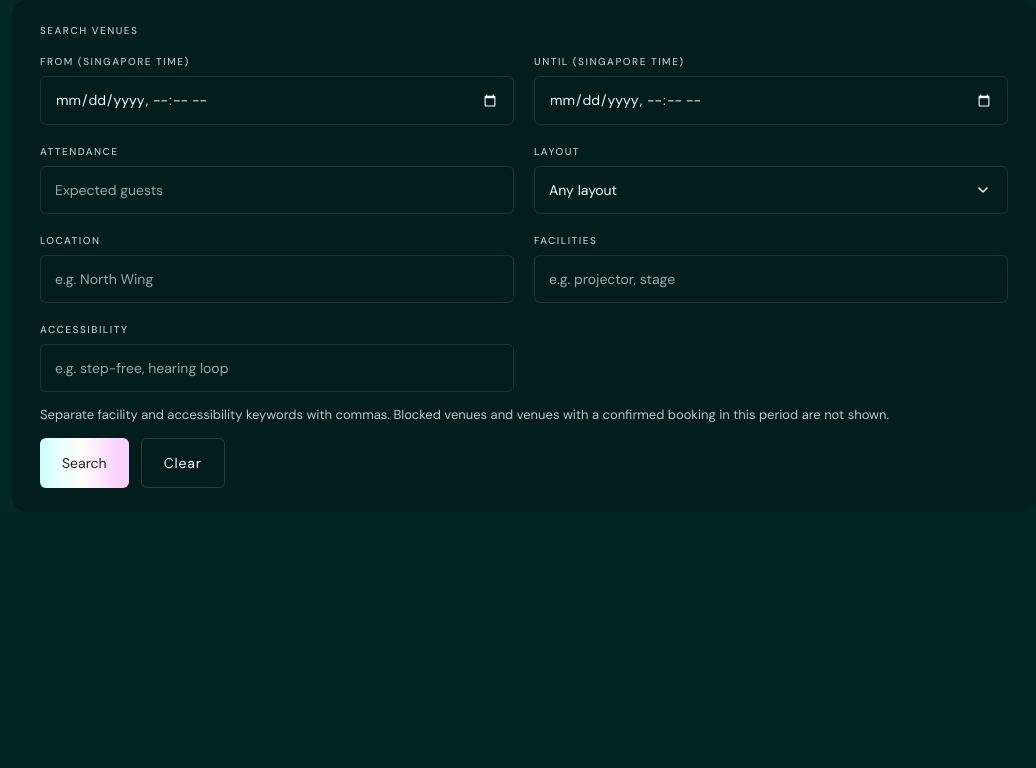
[FAILURE] [SG2-46:AC2] server refusals and network failures are reported, and Clear resets the search
Type "2030-06-15T09:00" into the field labelled "From (Singapore time)" at (277, 100), box x1=40 y1=76 x2=514 y2=125
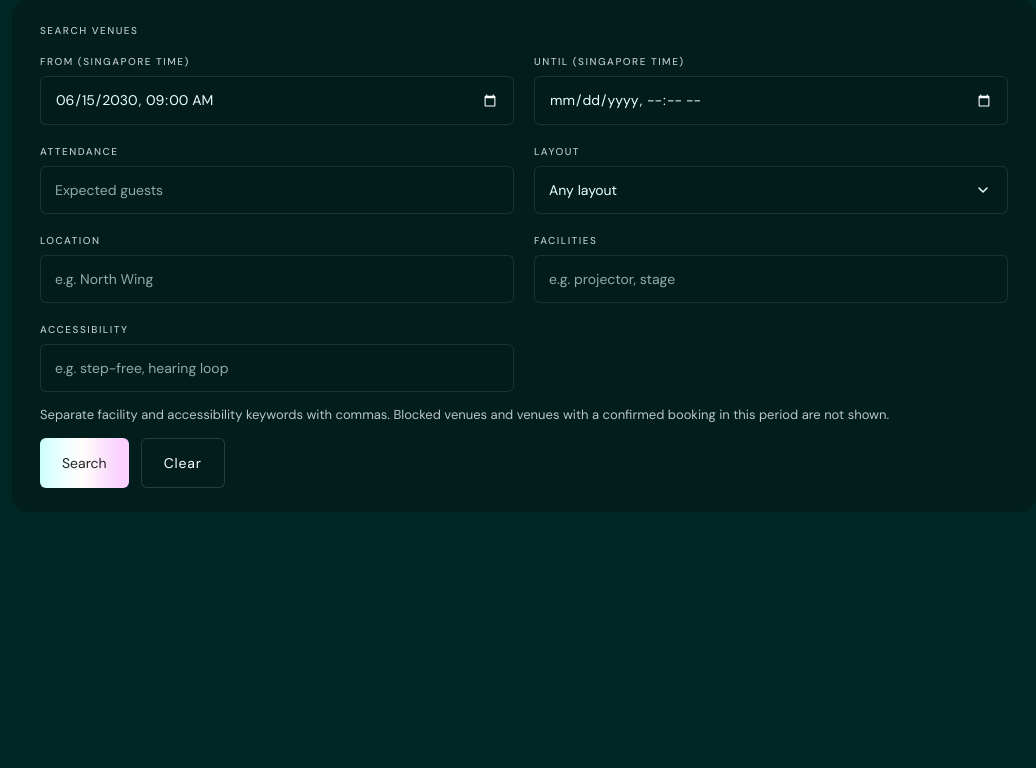
Type "2030-06-15T17:00" into the field labelled "Until (Singapore time)" at (771, 100), box x1=534 y1=76 x2=1008 y2=125
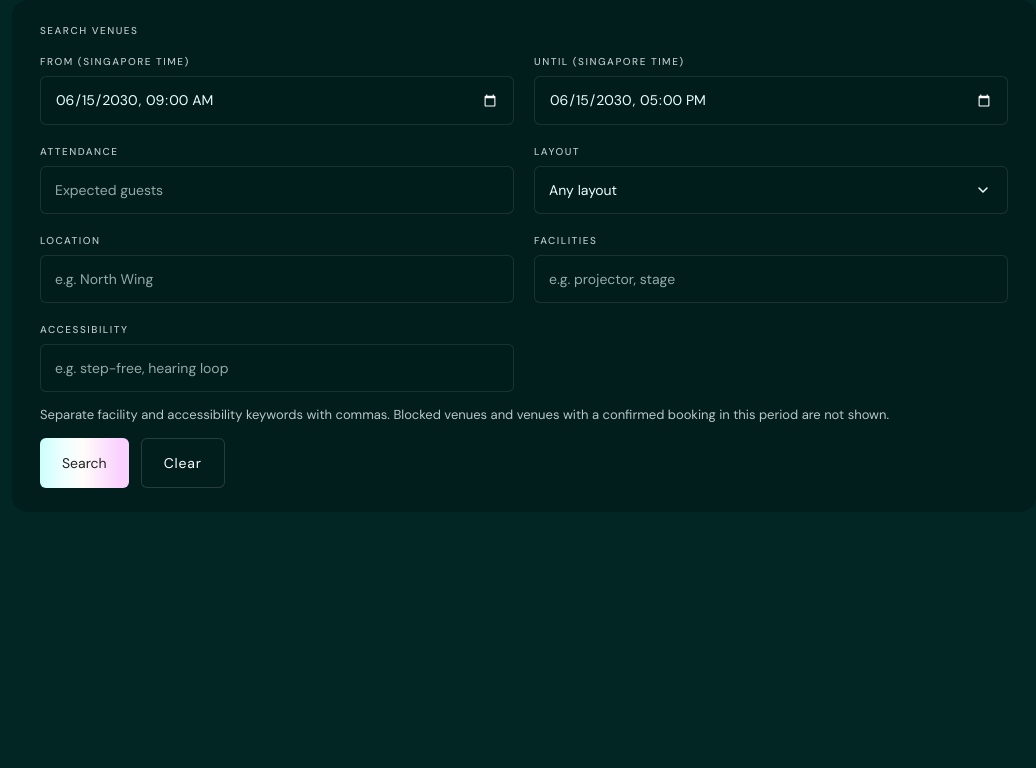
Submit the form named "Venue search criteria", box x1=40 y1=55 x2=1008 y2=488
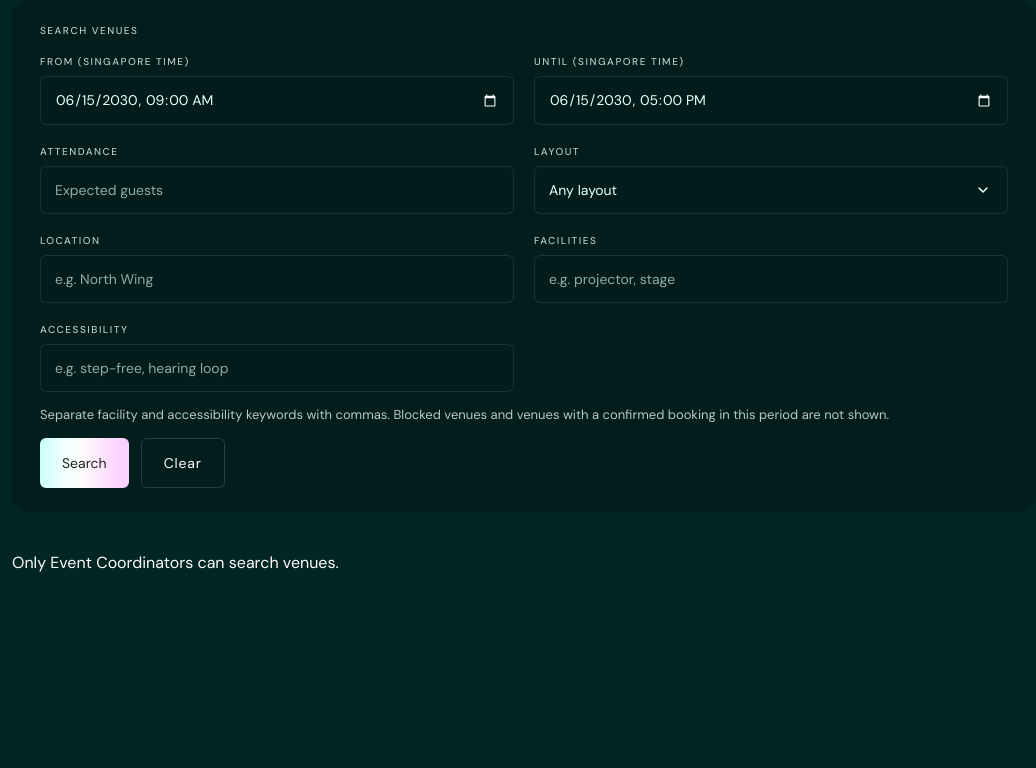
Expected: the message reads "Only Event Coordinators can search venues.", x1=12 y1=552 x2=339 y2=572
Submit the form named "Venue search criteria", box x1=40 y1=55 x2=1008 y2=488
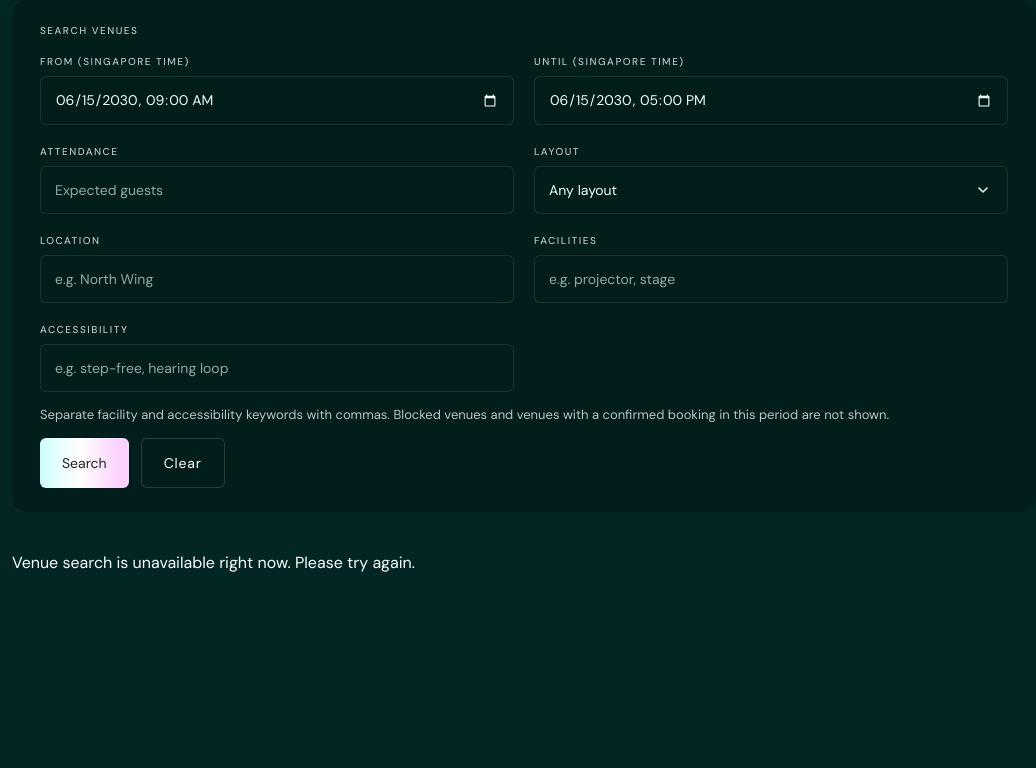
Expected: the message shows "Venue search is unavailable right now.", x1=12 y1=552 x2=415 y2=572
Click the button "Clear" at (183, 462), box x1=141 y1=438 x2=225 y2=488
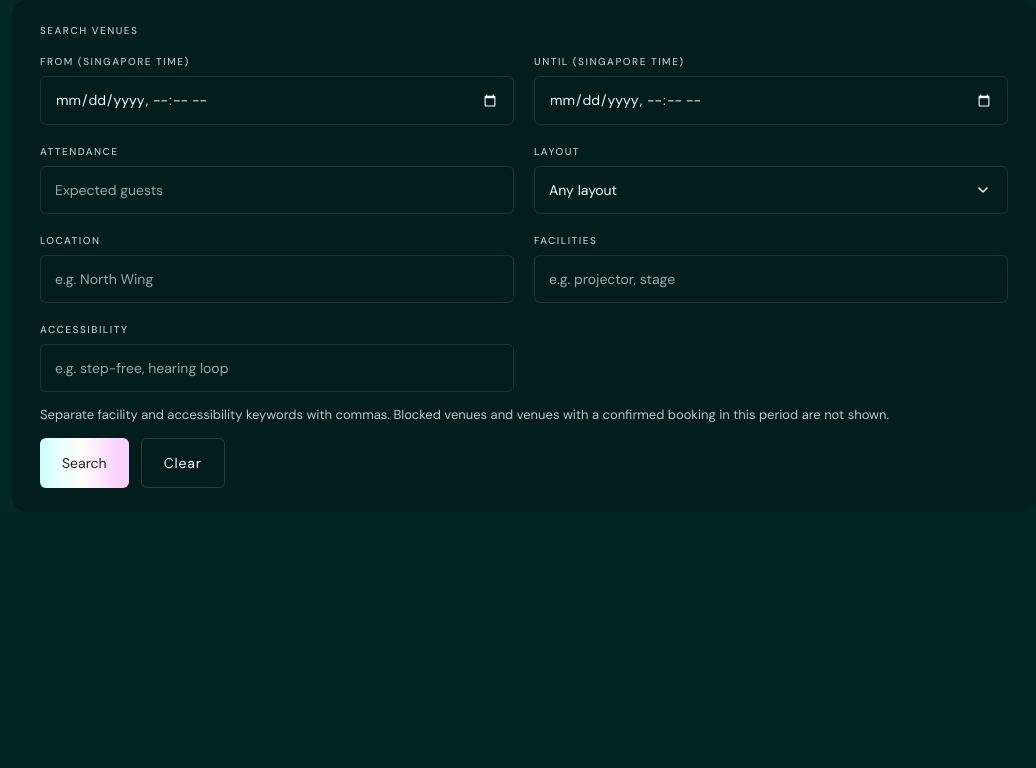
Expected: the message "Venue search is unavailable right now. Please try again." is gone
Expected: the field labelled "From (Singapore time)" is empty, x1=40 y1=76 x2=514 y2=125
